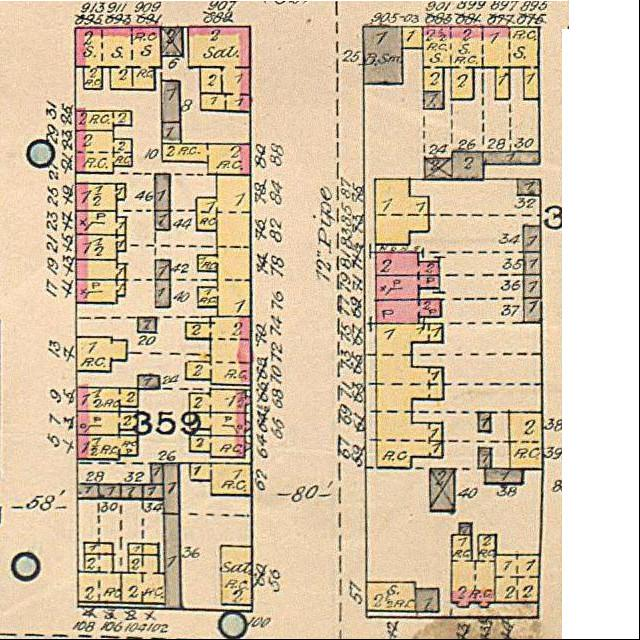building-footprints: (376, 324, 444, 469), (423, 27, 540, 100), (197, 175, 252, 317), (188, 27, 251, 113), (76, 28, 161, 91), (186, 317, 252, 386), (375, 180, 429, 245), (452, 536, 497, 608), (162, 144, 251, 176), (122, 544, 165, 604), (76, 131, 132, 173), (364, 27, 404, 84), (79, 555, 122, 603), (496, 555, 539, 603), (190, 464, 252, 496), (221, 546, 253, 606), (510, 413, 543, 469), (77, 338, 127, 373), (165, 514, 183, 610), (376, 300, 442, 324), (376, 276, 440, 300), (78, 435, 138, 460), (190, 413, 252, 437), (376, 253, 440, 276), (77, 388, 138, 412), (77, 412, 138, 436), (190, 435, 252, 458), (367, 583, 416, 612), (190, 390, 251, 413), (76, 184, 126, 211), (76, 211, 126, 236), (76, 235, 126, 260), (77, 280, 125, 304), (76, 111, 132, 131), (430, 469, 454, 512), (77, 260, 126, 280), (452, 152, 484, 180), (163, 464, 180, 514), (162, 81, 181, 123), (484, 152, 540, 165), (162, 27, 183, 57), (425, 159, 453, 180), (486, 469, 522, 485), (155, 174, 170, 211), (416, 589, 439, 613), (402, 27, 424, 49), (524, 226, 541, 253), (524, 298, 542, 323), (162, 122, 182, 144), (156, 280, 171, 308), (524, 252, 541, 276), (524, 275, 541, 298), (518, 179, 541, 196), (425, 92, 445, 110), (85, 543, 114, 555), (155, 260, 171, 281), (78, 484, 99, 500), (121, 485, 143, 500), (99, 485, 121, 500), (143, 485, 164, 500), (139, 375, 160, 389), (151, 463, 164, 485), (156, 211, 171, 230), (138, 318, 157, 333), (479, 448, 492, 469), (479, 413, 491, 432), (459, 523, 472, 535)
